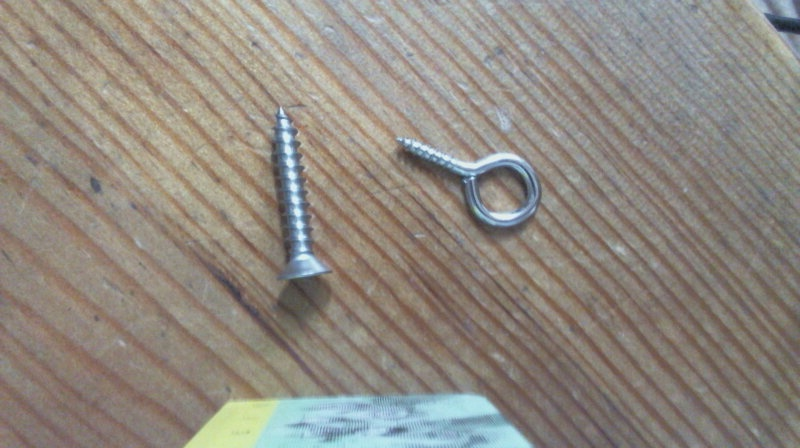O001: (386, 132, 544, 234)
S001: (260, 104, 334, 292)
